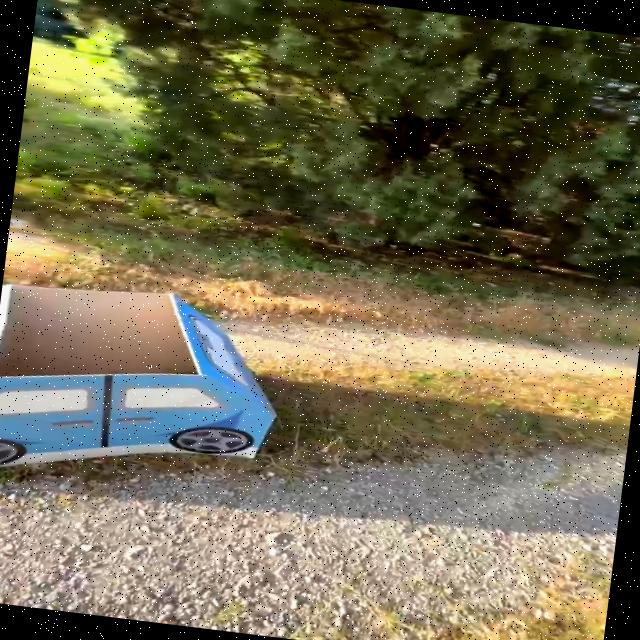blue_car: (0, 221, 334, 540)
